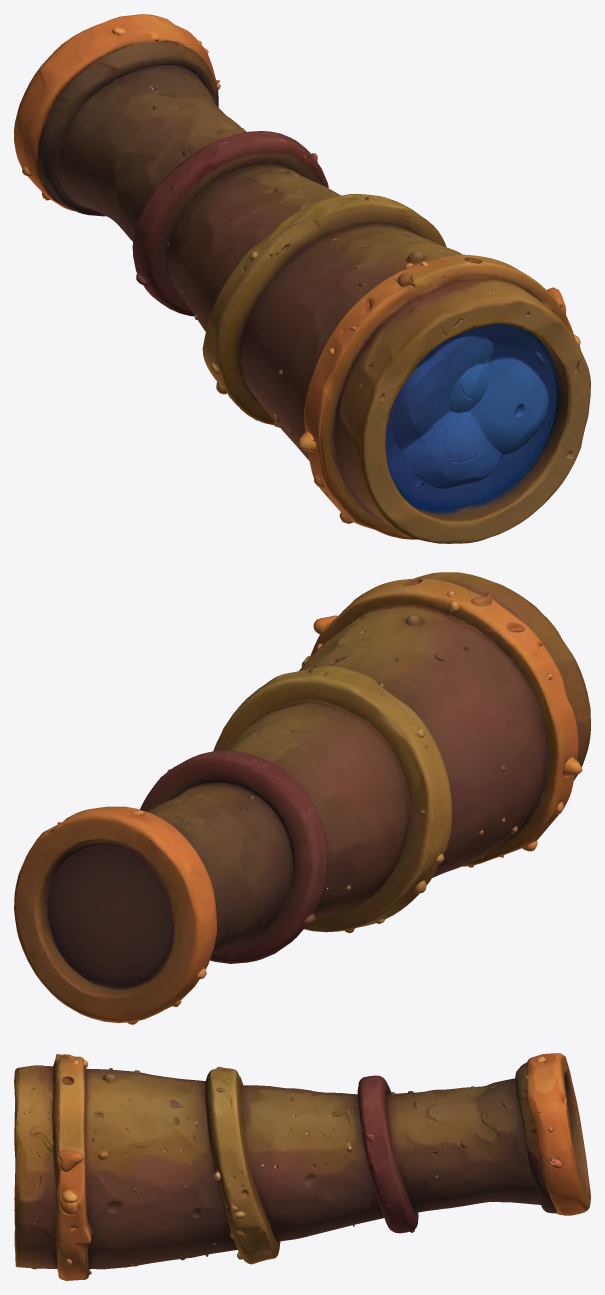
The model's file is catalejo.glb.
3 renders of one model, top to bottom at view 1: azimuth 30°, elevation 25°; view 2: azimuth 150°, elevation 25°; view 3: azimuth 270°, elevation 25°, orthographic. The views are drawn at different scales.
Bounding box in the file's own units: 0.4125 × 0.3937 × 0.9817.
Materials: 1 (1 with a texture image).
